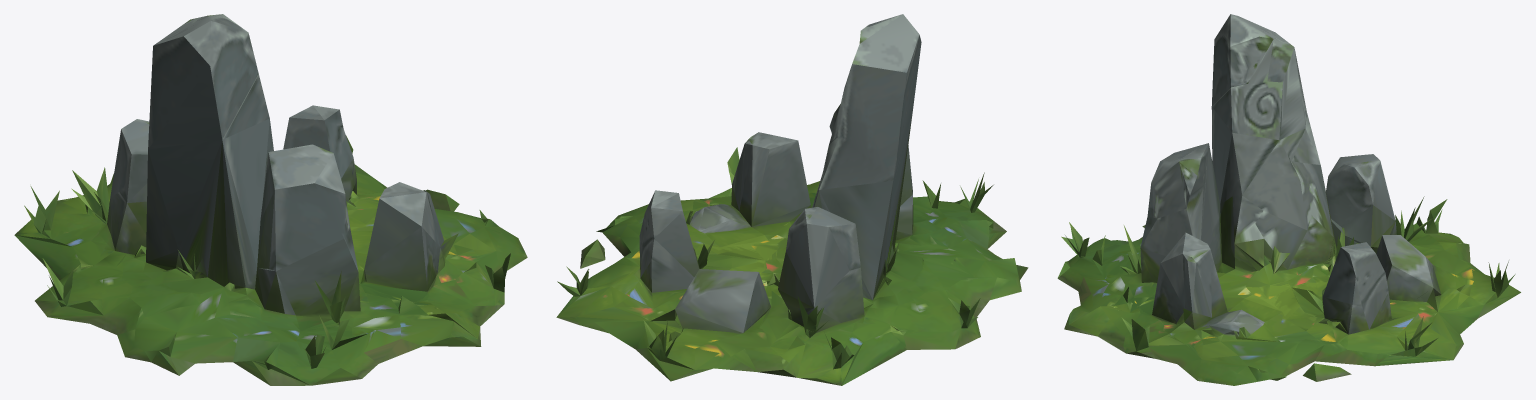
3 views of the same model, side by side, from view 1: azimuth 30°, elevation 25°; view 2: azimuth 150°, elevation 25°; view 3: azimuth 270°, elevation 25° (orthographic). The views are drawn at different scales.
Visible parts, largest first — view 1: standing_stones; view 2: standing_stones; view 3: standing_stones.
Part boxes in pixels (x1,y1,x2,y2): standing_stones: (14,14,527,385); standing_stones: (556,14,1028,385); standing_stones: (1057,14,1520,385).
Size of the model in its own units: 0.8823 by 0.5746 by 0.9788.
1 material, 1 textured.
